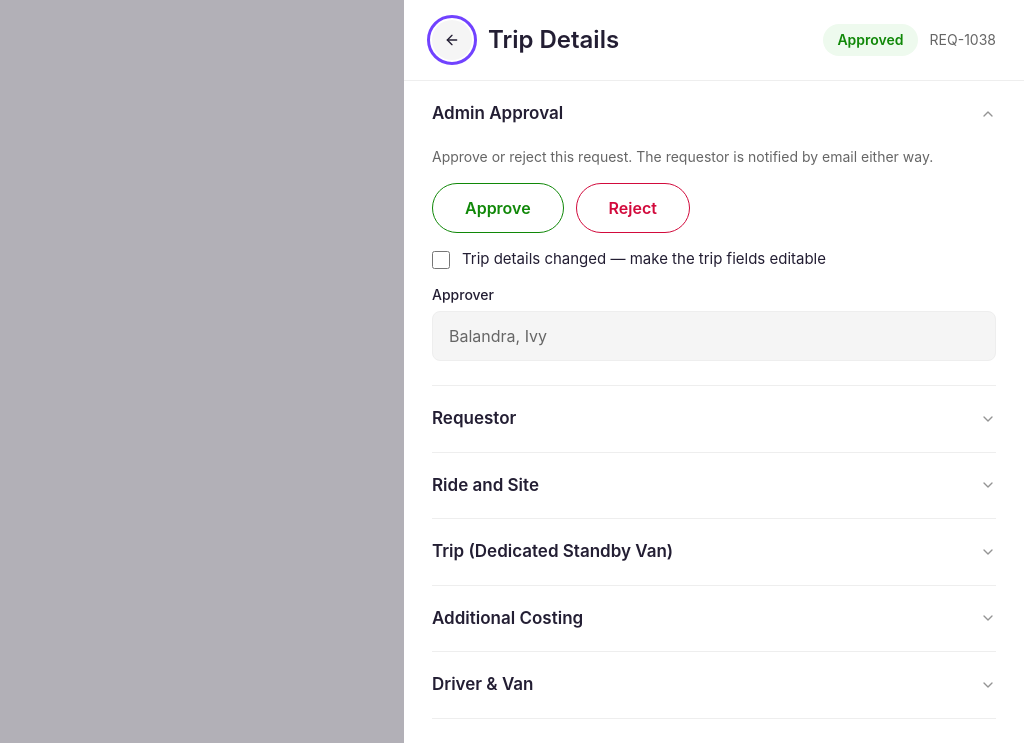
it: TripDrawer editing › refuses a cost that is not a whole number of pesos
Click the checkbox: {"x": 441, "y": 260} top-left (432, 250), bottom-right (450, 268)
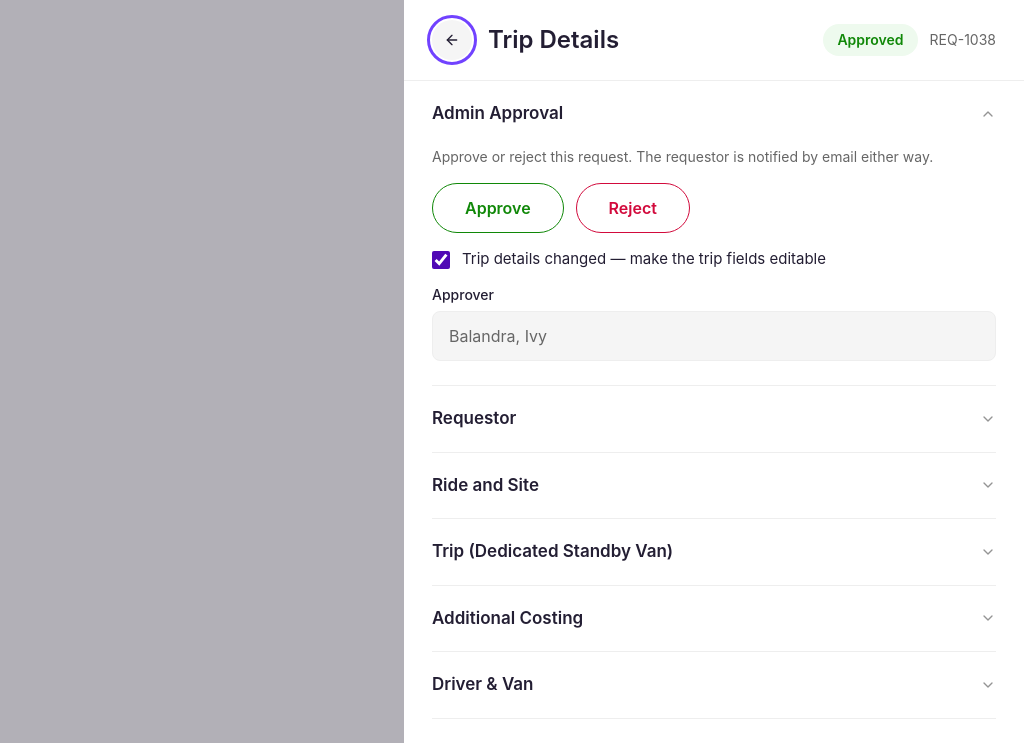
Replace the text in the field named "Additional Cost (PHP)" with "6,400.50": {"x": 714, "y": 619} top-left (432, 586), bottom-right (996, 652)
(page scrolled)
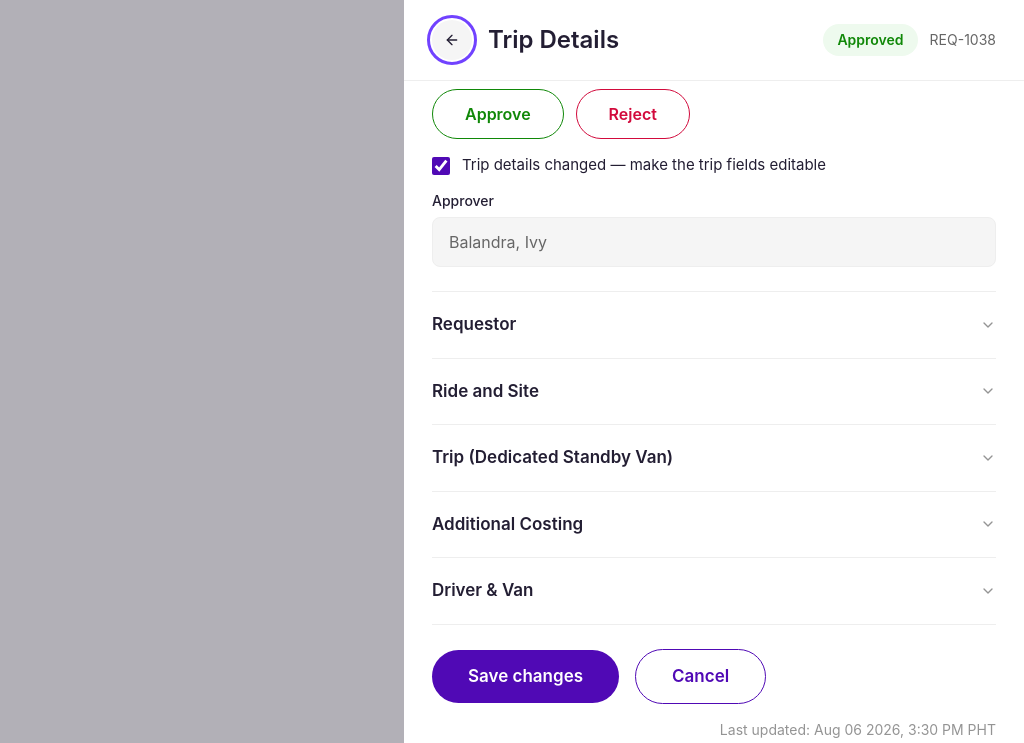
Click the button "Save changes": {"x": 526, "y": 676} top-left (432, 650), bottom-right (619, 703)
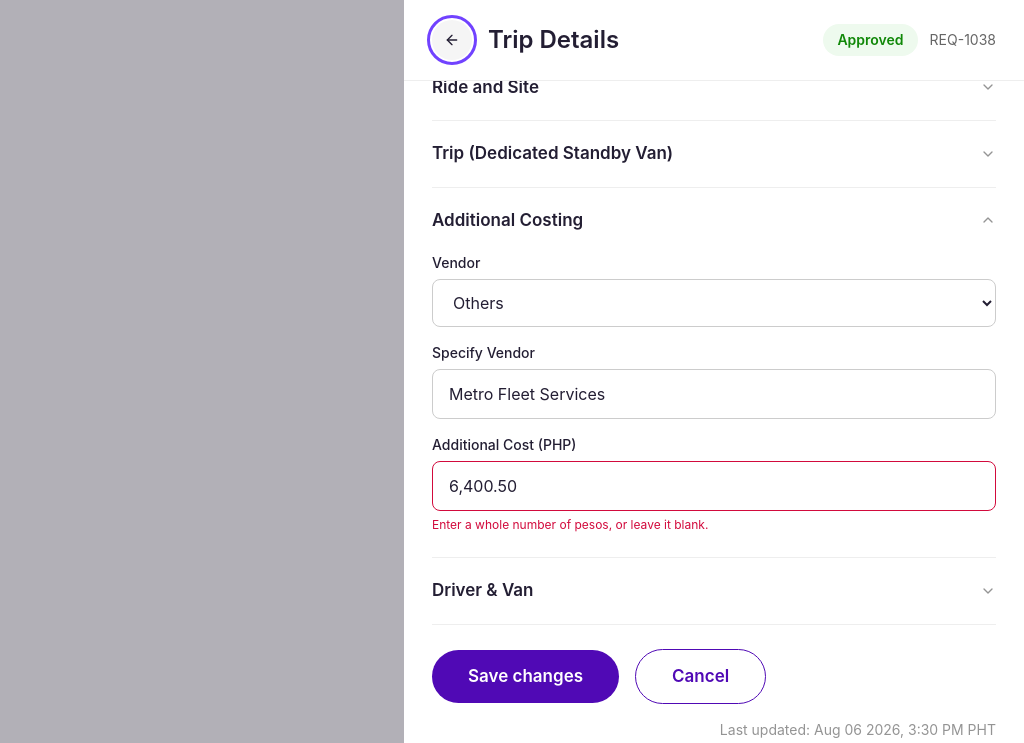
Result: the text "Enter a whole number of pesos, or leave it blank." is shown at top-left (432, 517), bottom-right (708, 532)
